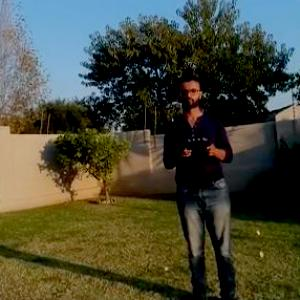follow: (160, 67, 248, 299)
